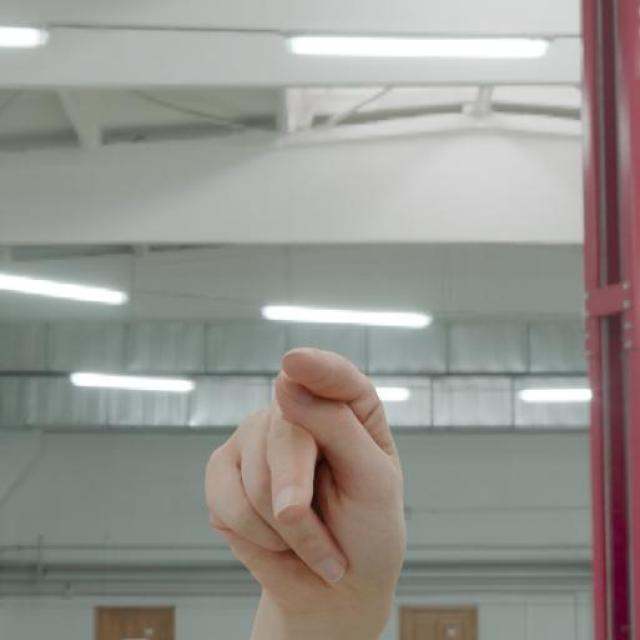P: (172, 334, 438, 621)
